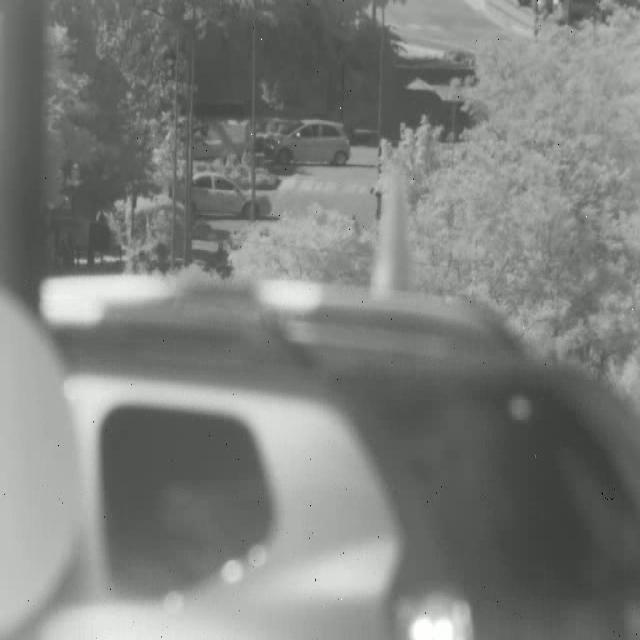Car: (19, 272, 638, 640), (250, 114, 350, 168), (172, 170, 272, 220)
